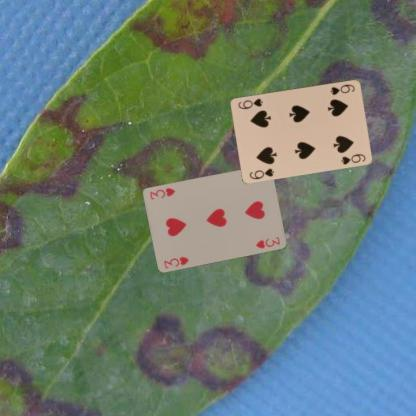3h: (161, 254, 190, 270)
6s: (328, 81, 356, 96), (247, 166, 276, 180)
